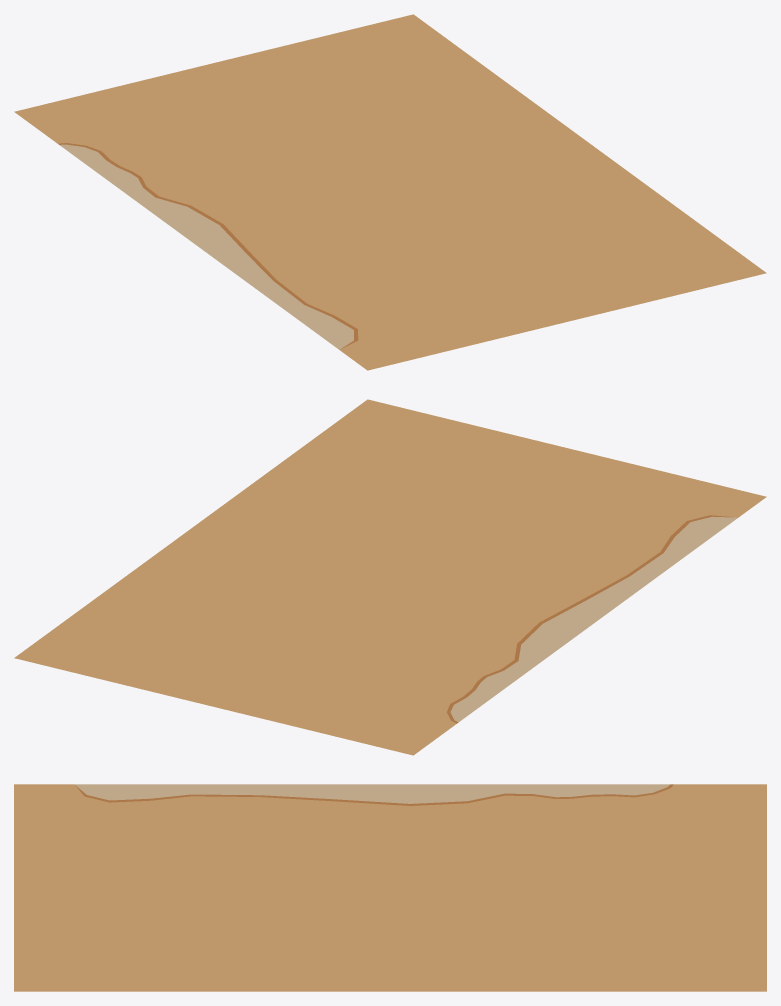
Rendered from west_end.FBX.
3 renders of one model, top to bottom at view 1: azimuth 30°, elevation 25°; view 2: azimuth 150°, elevation 25°; view 3: azimuth 270°, elevation 25°, orthographic. The views are drawn at different scales.
Parts seen in each view (by area): view 1: west_end; view 2: west_end; view 3: west_end.
Boxes of the visible parts, <box> form: west_end: <box>14,14,766,370</box>; west_end: <box>14,399,766,755</box>; west_end: <box>14,784,766,991</box>.
Bounding box in the file's own units: 14313 × 0.5453 × 21939.
1 material, 1 textured.
